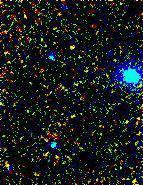star: (61, 30, 91, 60)
